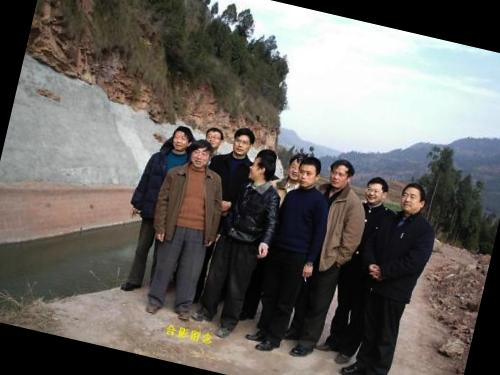no_helmet: (243, 143, 280, 188), (394, 177, 430, 219), (325, 155, 359, 193), (226, 122, 258, 162), (162, 120, 196, 157), (294, 150, 322, 190), (185, 138, 216, 174), (360, 171, 391, 207), (284, 148, 304, 184), (199, 124, 224, 152)
